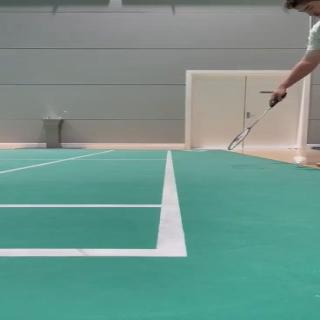Shuttle: (292, 156, 306, 164)
